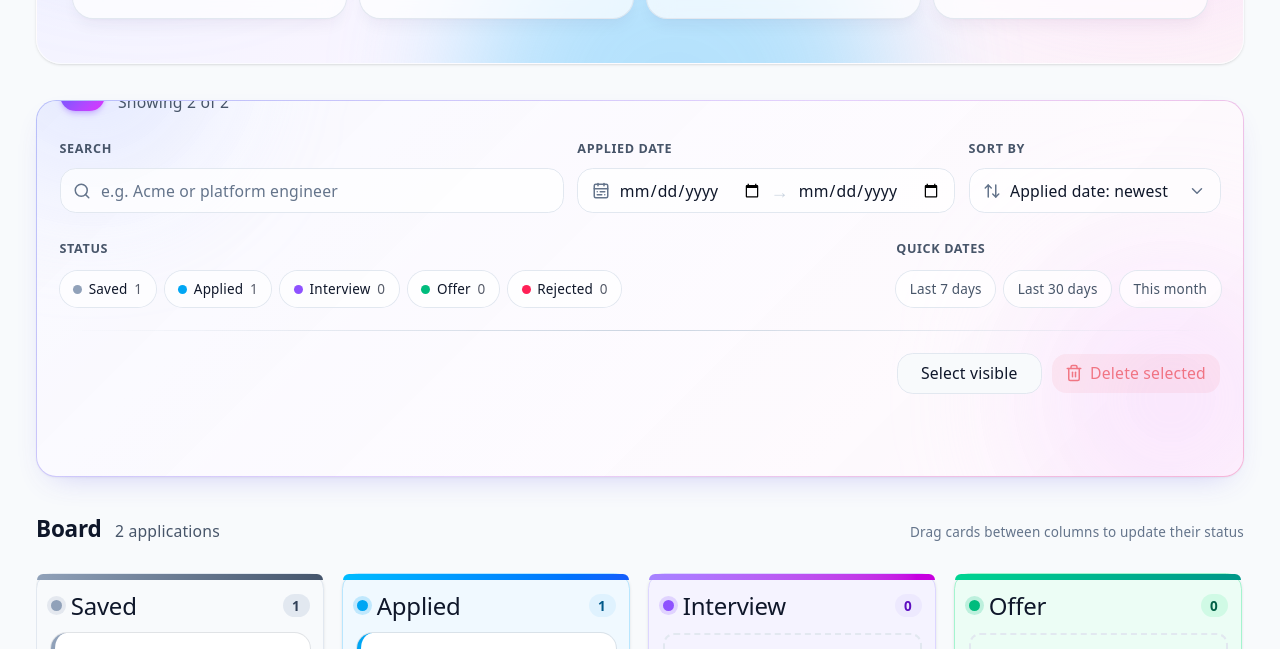
ApplicationsPage API integration › shows only the statuses picked with the status buttons
(page scrolled)
Step 1. Click the button with aria-label "Applied (1)" → click(218, 289), box [165, 271, 271, 307]
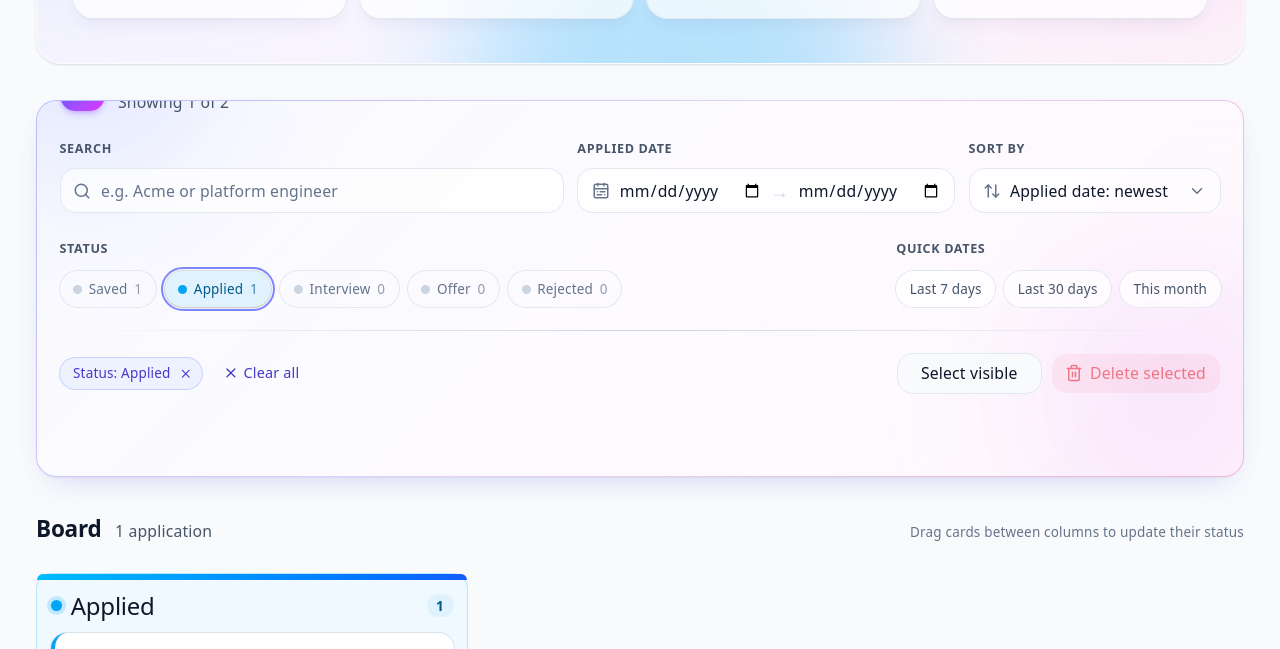
Check: the button with aria-label "Applied (1)" is pressed
Un-pressing the only picked status shows every column again.
Step 2. Click the button with aria-label "Applied (1)" → click(218, 289), box [165, 271, 271, 307]
(page scrolled)
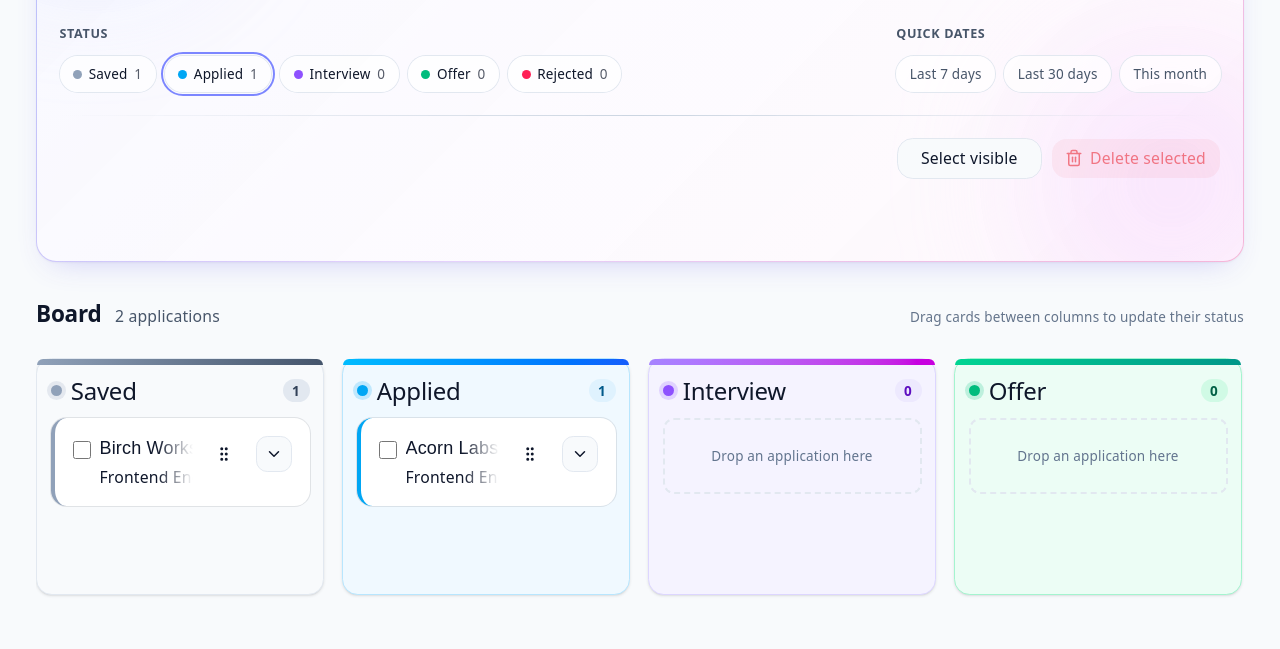
Check: the text "Birch Works" is shown, box [100, 436, 192, 461]
